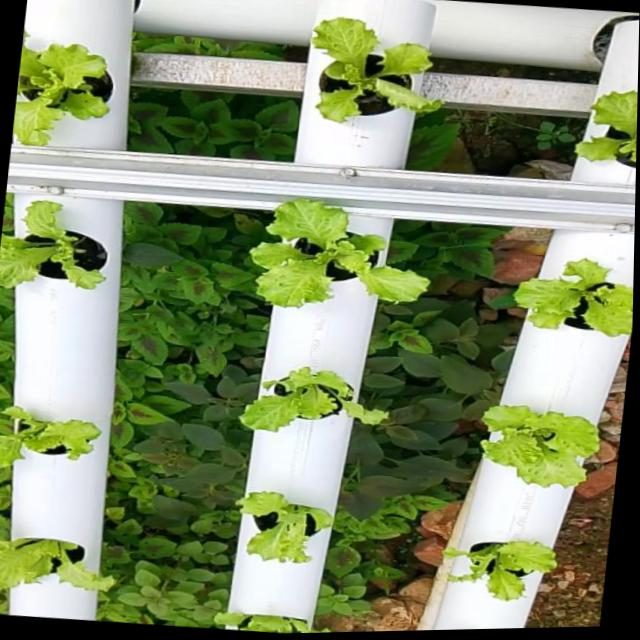Baby: (251, 202, 428, 306), (313, 22, 443, 126), (13, 30, 117, 147), (0, 200, 111, 289), (476, 404, 593, 486), (510, 261, 633, 338), (237, 366, 385, 429), (438, 538, 551, 597), (235, 489, 330, 559), (0, 402, 101, 465), (0, 533, 112, 585), (574, 96, 638, 171)
